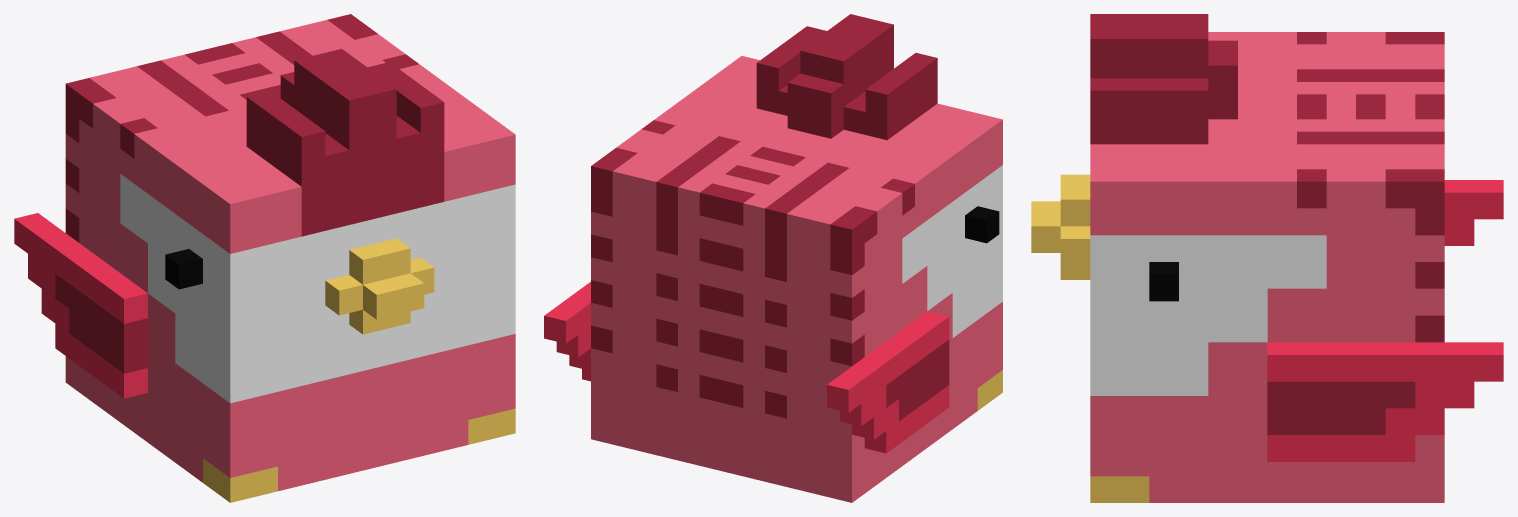
The model's file is bird3.obj.
The picture shows the model from 3 angles, left to right: view 1: azimuth 30°, elevation 25°; view 2: azimuth 150°, elevation 25°; view 3: azimuth 270°, elevation 25°; orthographic projection. The views are drawn at different scales.
Visible parts, largest first — view 1: bird3; view 2: bird3; view 3: bird3.
Boxes of the visible parts, bbox=[...] form: bird3: bbox=[14, 14, 515, 502]; bird3: bbox=[544, 14, 1002, 502]; bird3: bbox=[1031, 14, 1503, 502].
Size of the model in its own units: 14 by 15 by 16.
1 material, 1 textured.
